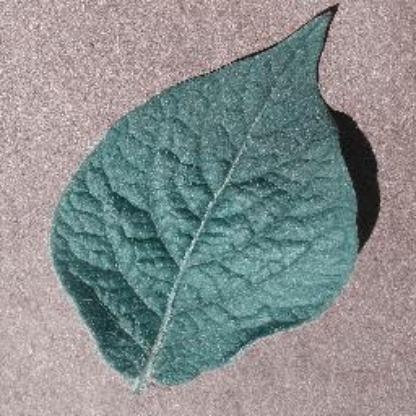Healthy-plant: (47, 9, 365, 395)
